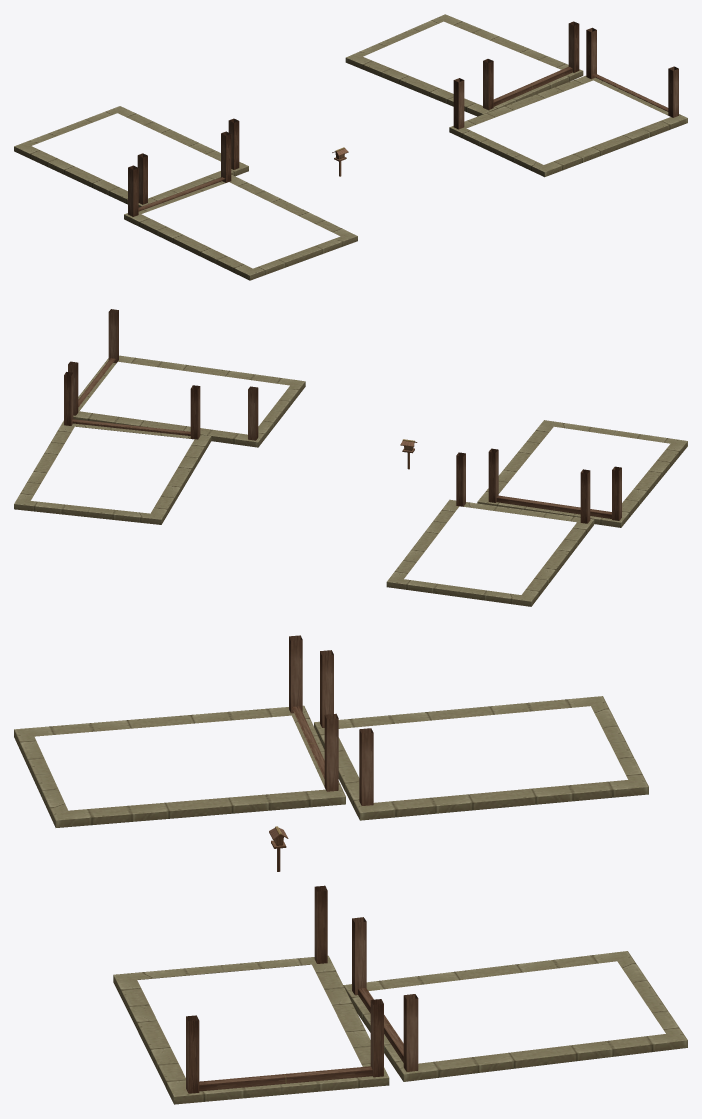
File: Area_09_42.fbx
3 renders of one model, top to bottom at view 1: azimuth 30°, elevation 25°; view 2: azimuth 150°, elevation 25°; view 3: azimuth 270°, elevation 25°, orthographic. The views are drawn at different scales.
Parts seen in each view (by area): view 1: Area_09_42; view 2: Area_09_42; view 3: Area_09_42.
Part boxes in pixels (x1,y1,x2,y2): Area_09_42: (14,14,687,280); Area_09_42: (14,309,687,606); Area_09_42: (14,635,687,1104).
Bounding box in the file's own units: 4607 × 441 × 3273.
